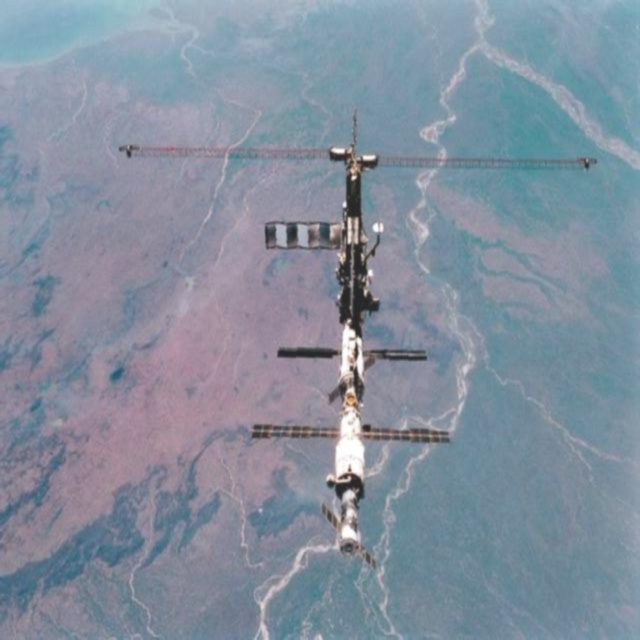medium_debris: (116, 138, 596, 553)
